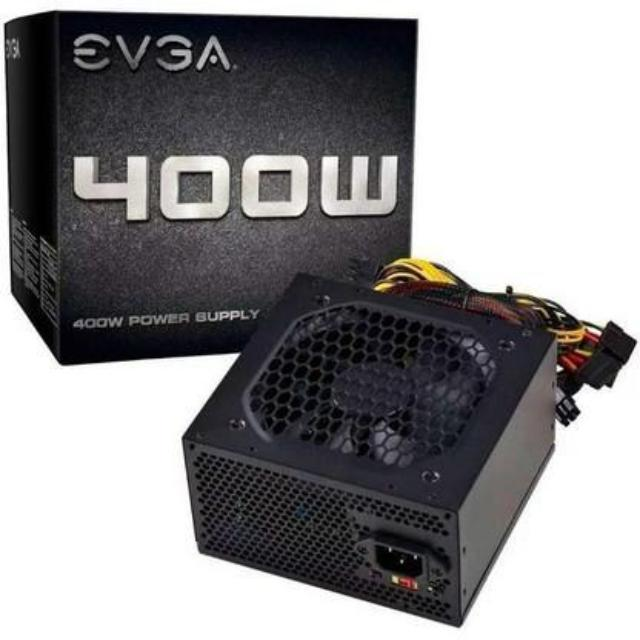PSU: (172, 258, 582, 634)
